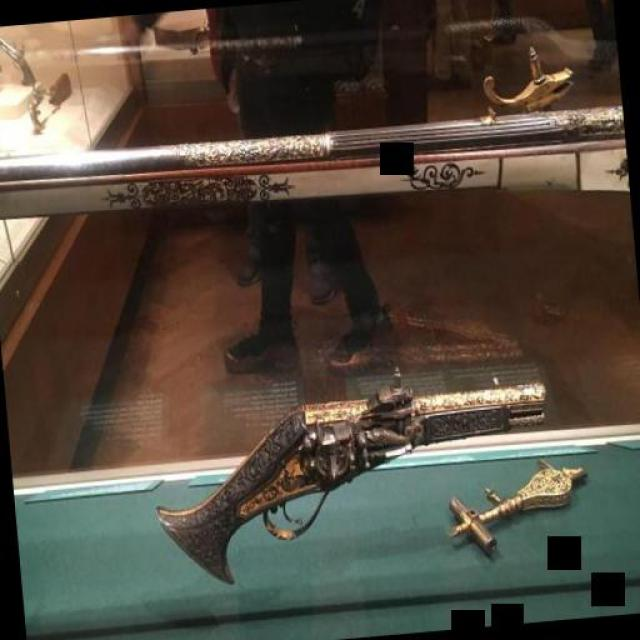gun: (143, 358, 562, 594)
